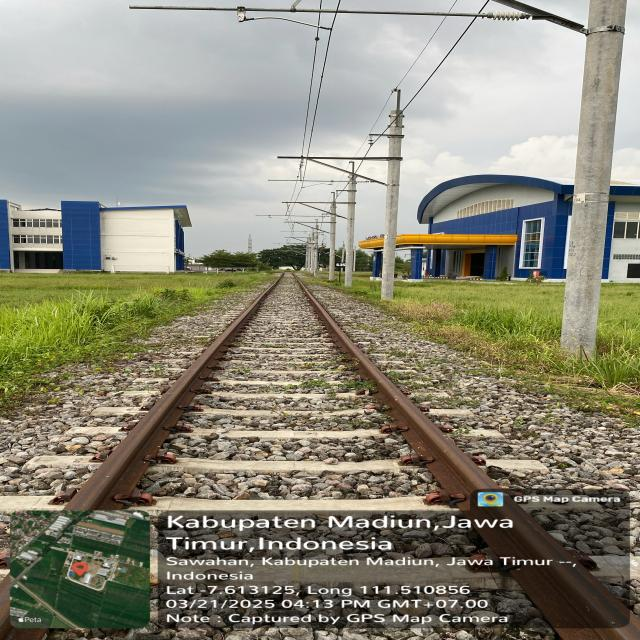rail-detection: (293, 273, 640, 640), (64, 272, 284, 510)
